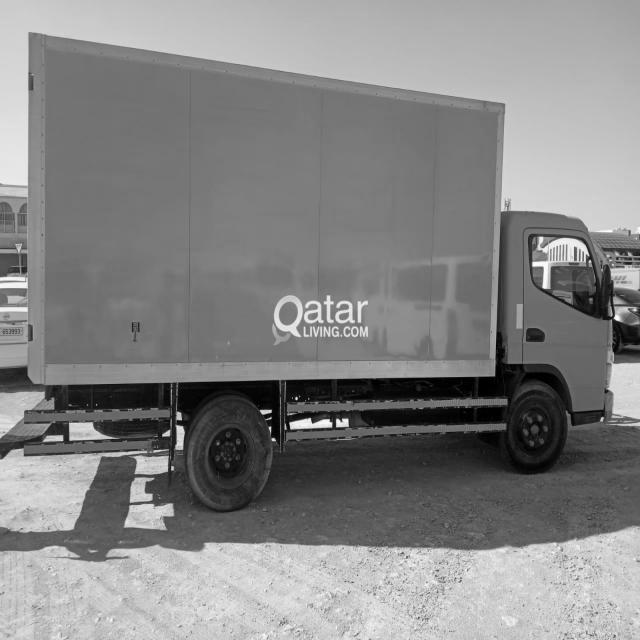truck: (481, 183, 637, 449)
